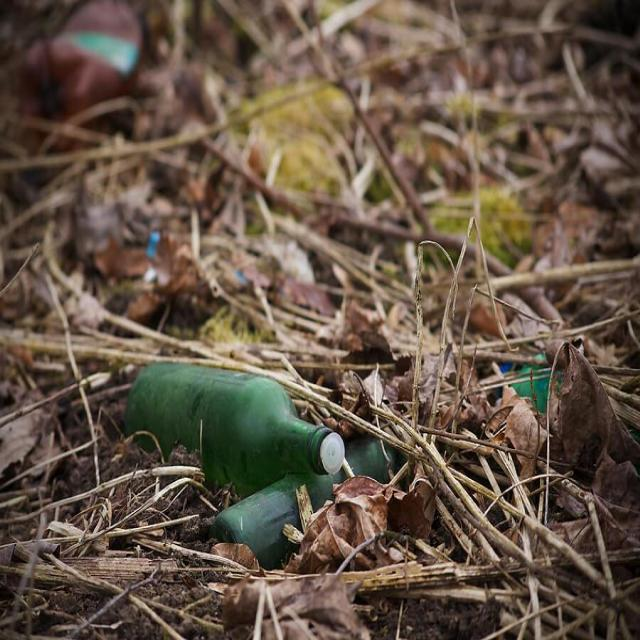non-organic waste: (126, 350, 352, 486)
